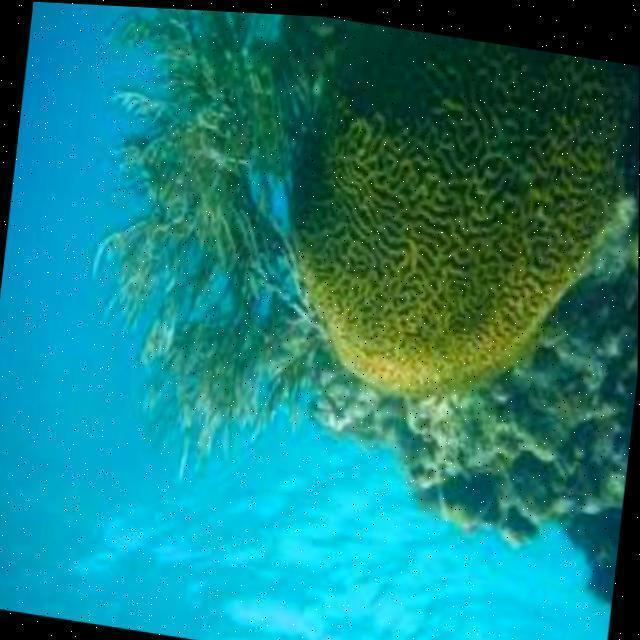Healthy Coral: (243, 23, 640, 456)
